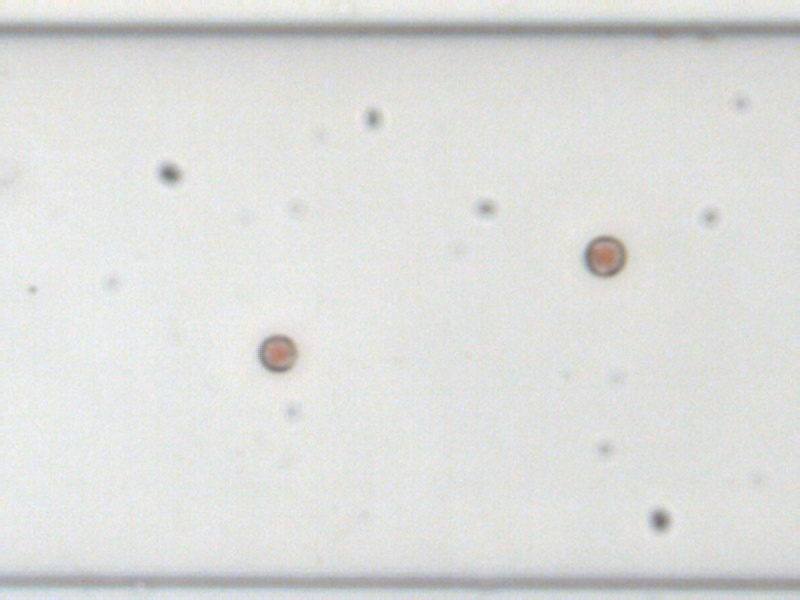Porphyridium: (581, 234, 627, 278), (258, 333, 296, 371)
